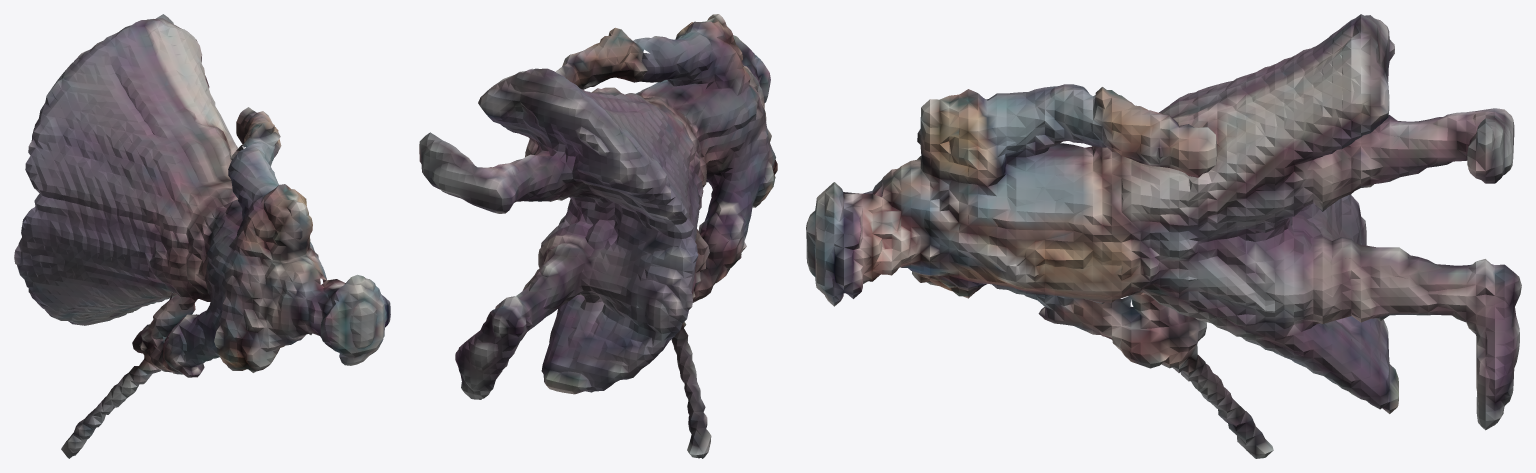
File: industrial_warrior_m_0.glb
3 renders of one model, left to right at view 1: azimuth 30°, elevation 25°; view 2: azimuth 150°, elevation 25°; view 3: azimuth 270°, elevation 25°, orthographic. The views are drawn at different scales.
Visible parts, largest first — view 1: world; view 2: world; view 3: world.
Boxes of the visible parts, x1=… form: world: x1=14, y1=14, x2=390, y2=458; world: x1=419, y1=14, x2=777, y2=458; world: x1=806, y1=14, x2=1521, y2=458.
Bounding box in the file's own units: 0.4715 × 0.8075 × 1.02.
